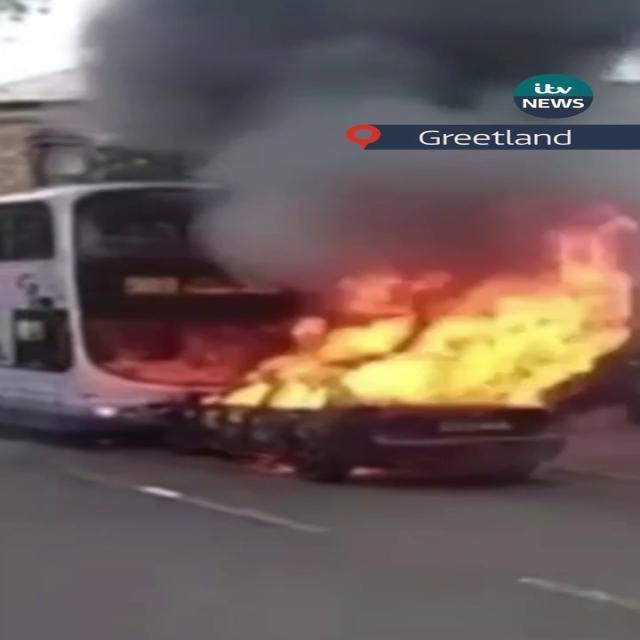Fire: (207, 224, 638, 422)
Smoke: (44, 0, 640, 250)
